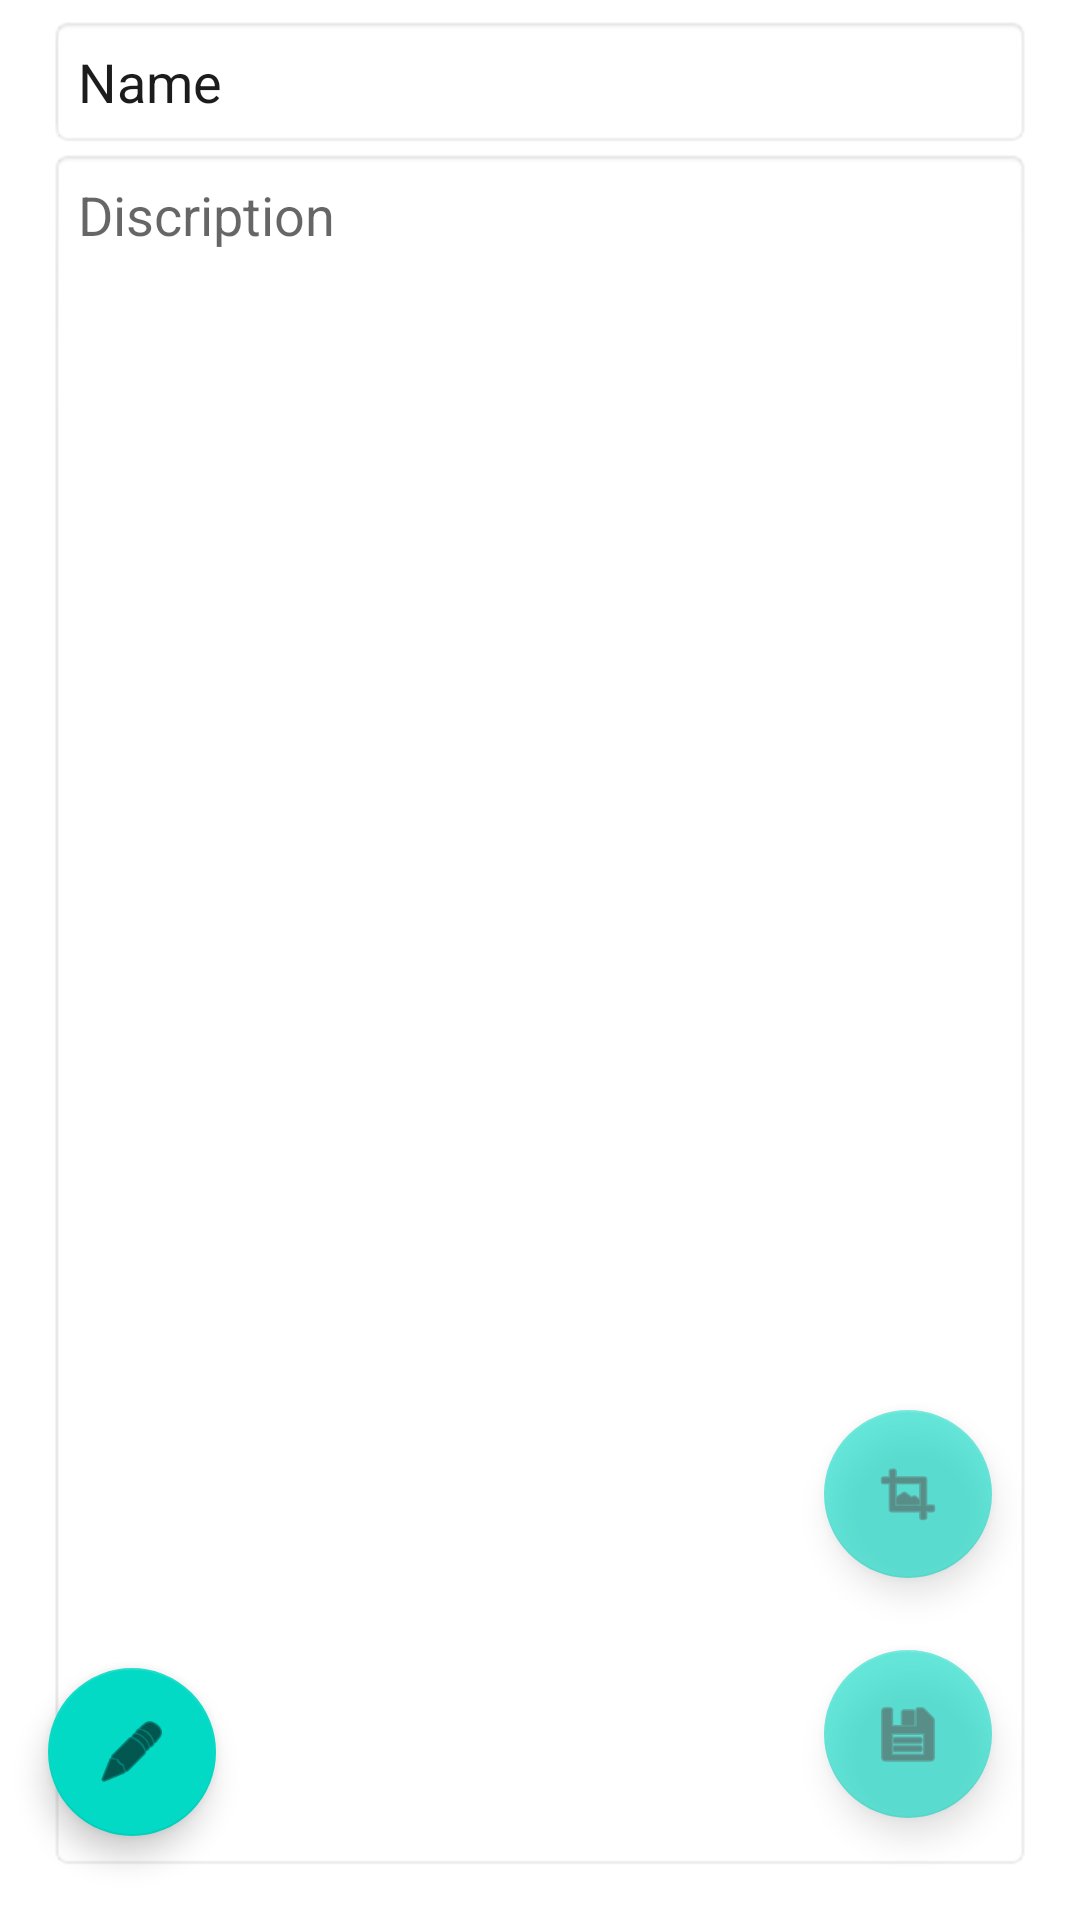

Icon bounding boxes for this 1080 × 1920 phone screenshot, format box(x1, y1, x2, y2):
crop: box(824, 1410, 992, 1578)
edit: box(48, 1668, 216, 1836)
save: box(824, 1650, 992, 1818)
